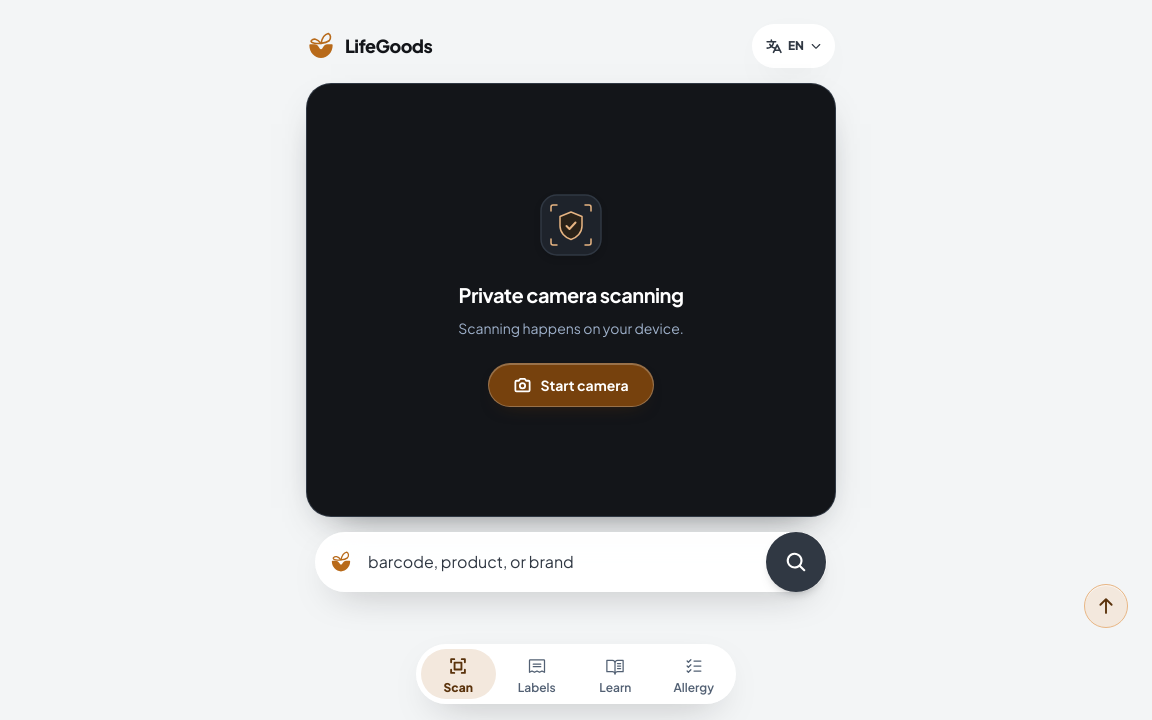
Life Goods routes › clicking Learn in the bottom navigation opens the guide grid
(page scrolled)
What coordinates should you click on to do the following:
click the link "Learn"
I would click on:
 (615, 675)
Its box is [599, 656, 631, 694].
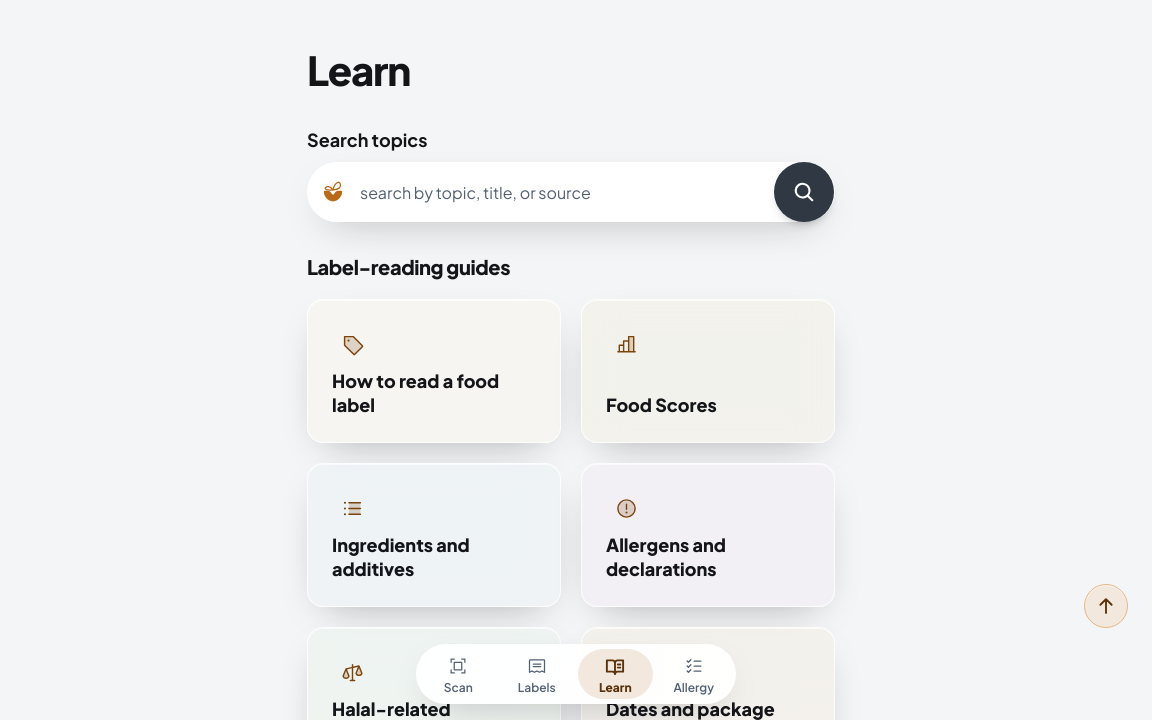
expect the heading "Label-reading guides" is shown: met, box [307, 254, 510, 279]
expect the link "How to read a food label" is shown: met, box [307, 299, 561, 443]
